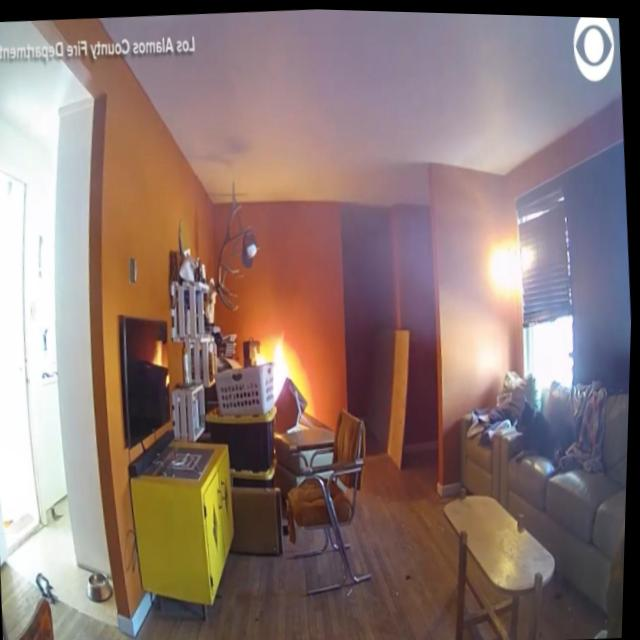fire: (252, 328, 295, 412)
